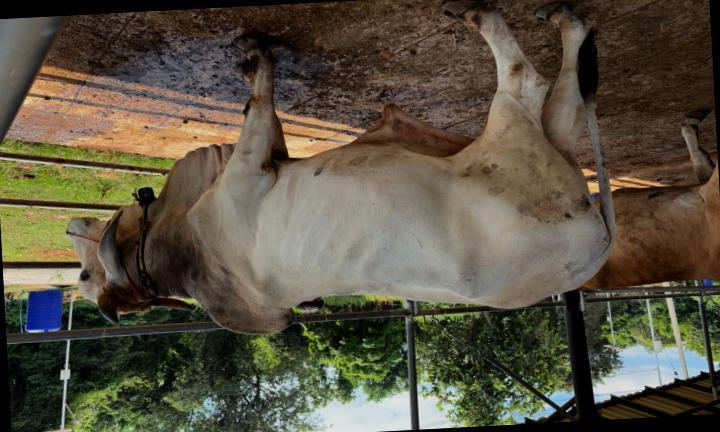Brahman: (68, 0, 616, 334)
